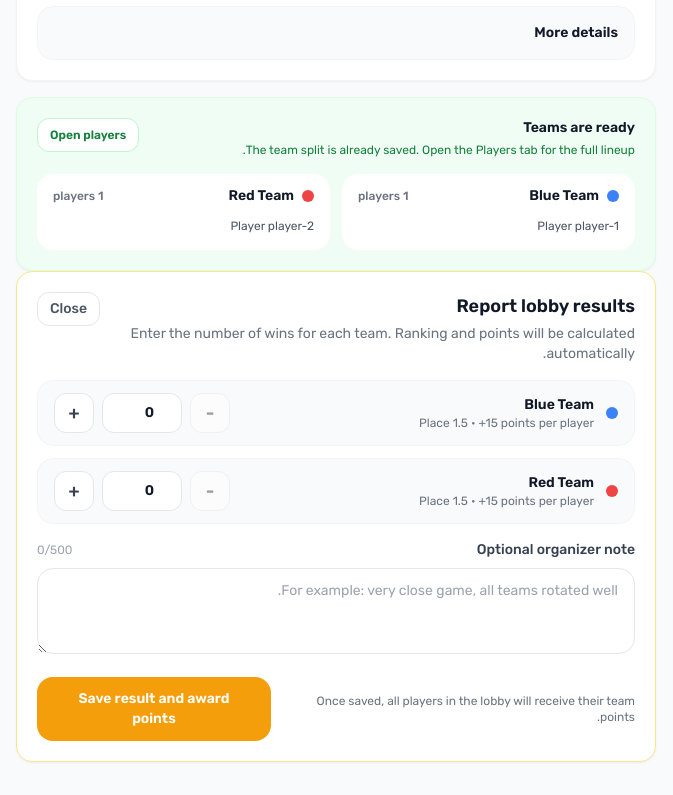
Test case: LobbyDetailLive join flows › submits competitive results for organizers and refreshes the saved result
(page scrolled)
Expected: the heading "Report lobby results" is shown, [456,294,635,316]
Click the button named "Increase wins" at coordinates (74, 412), box [54,392,94,432]
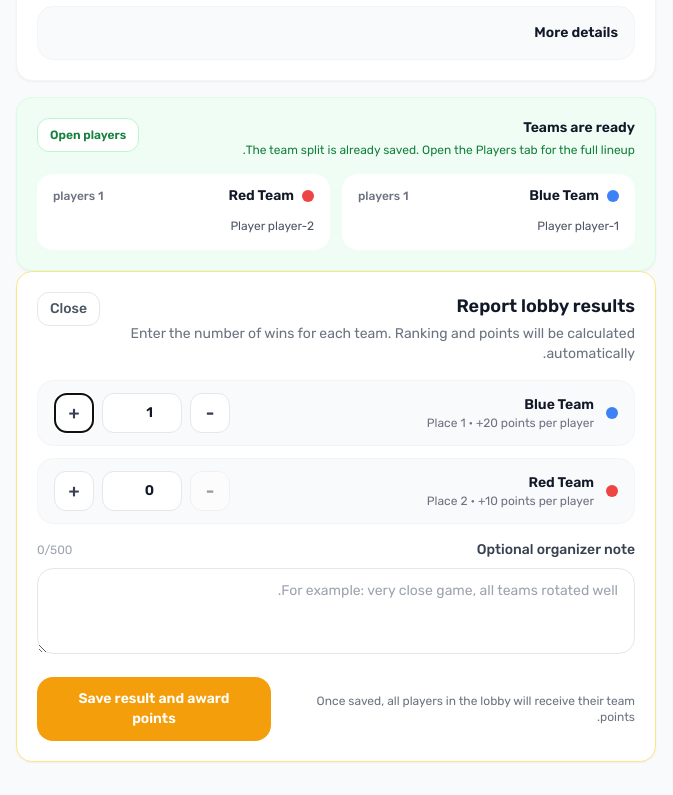
Click the button "Save result and award points" at coordinates (154, 708), box [37,676,271,740]
(page scrolled)
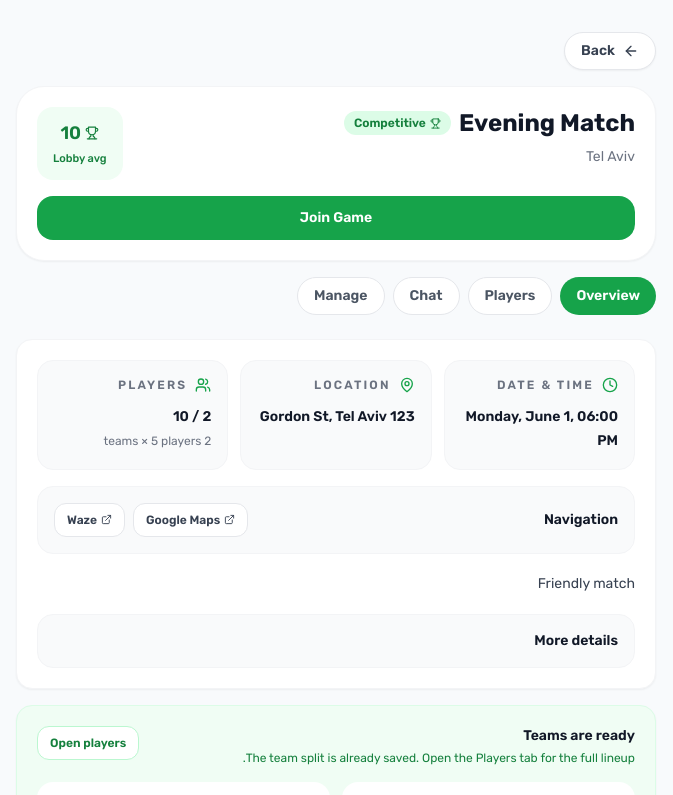
Click the button "Manage" at coordinates (341, 296), box [297,276,384,314]
(page scrolled)
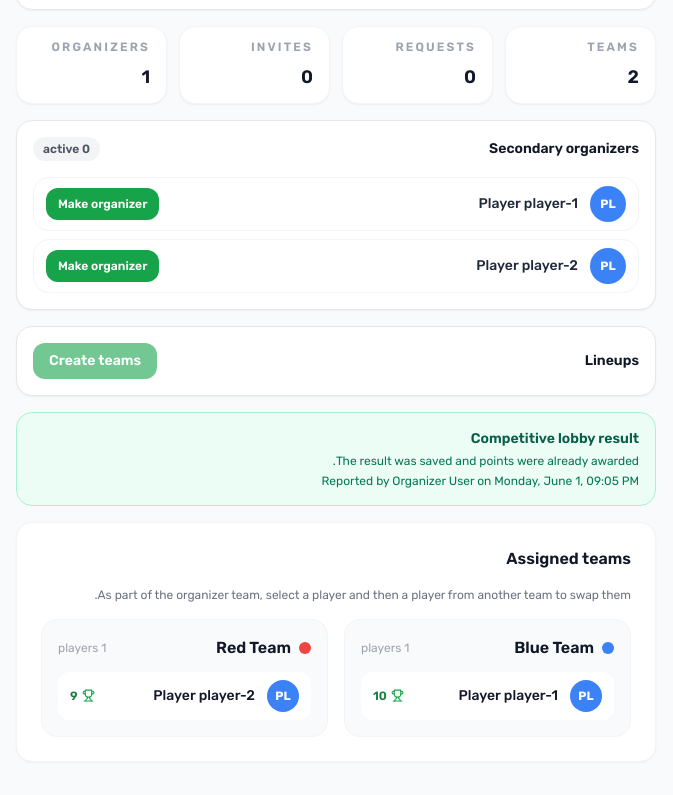
Expected: the text "The result was saved and points were already awarded." is shown, [322,452,639,468]
